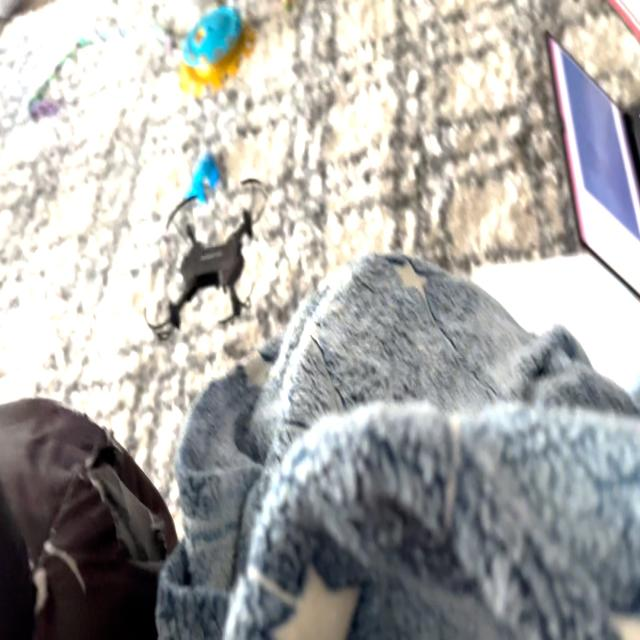drone: (138, 165, 278, 352)
